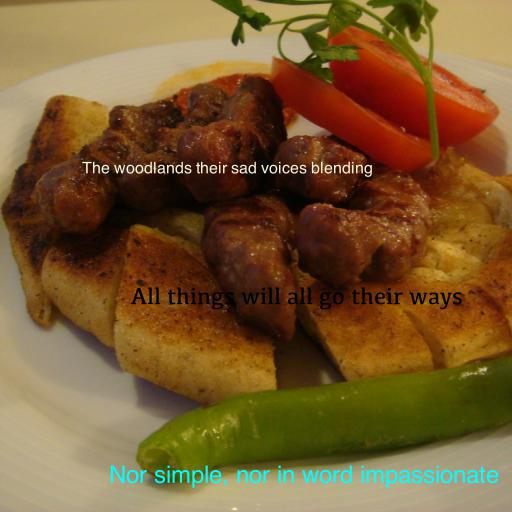Apple Chancery: (109, 465, 499, 488), (81, 161, 373, 177)
Kefa: (131, 287, 463, 310)
